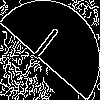I: (25, 25, 62, 69)
